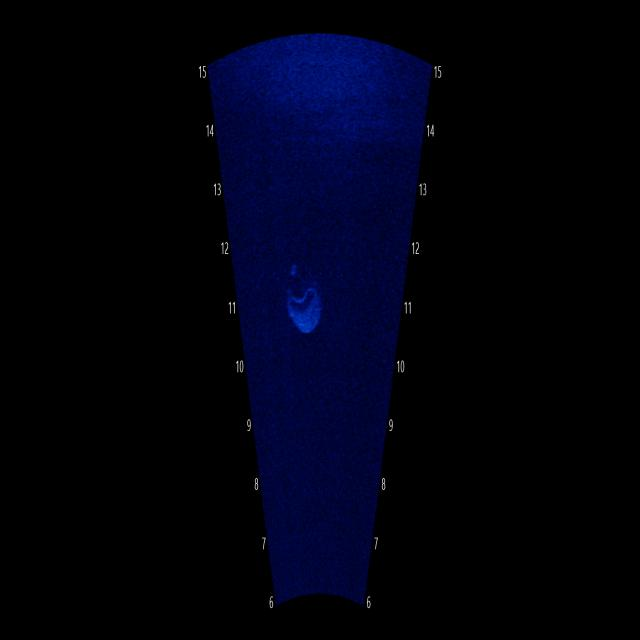circle: (282, 244, 332, 356)
